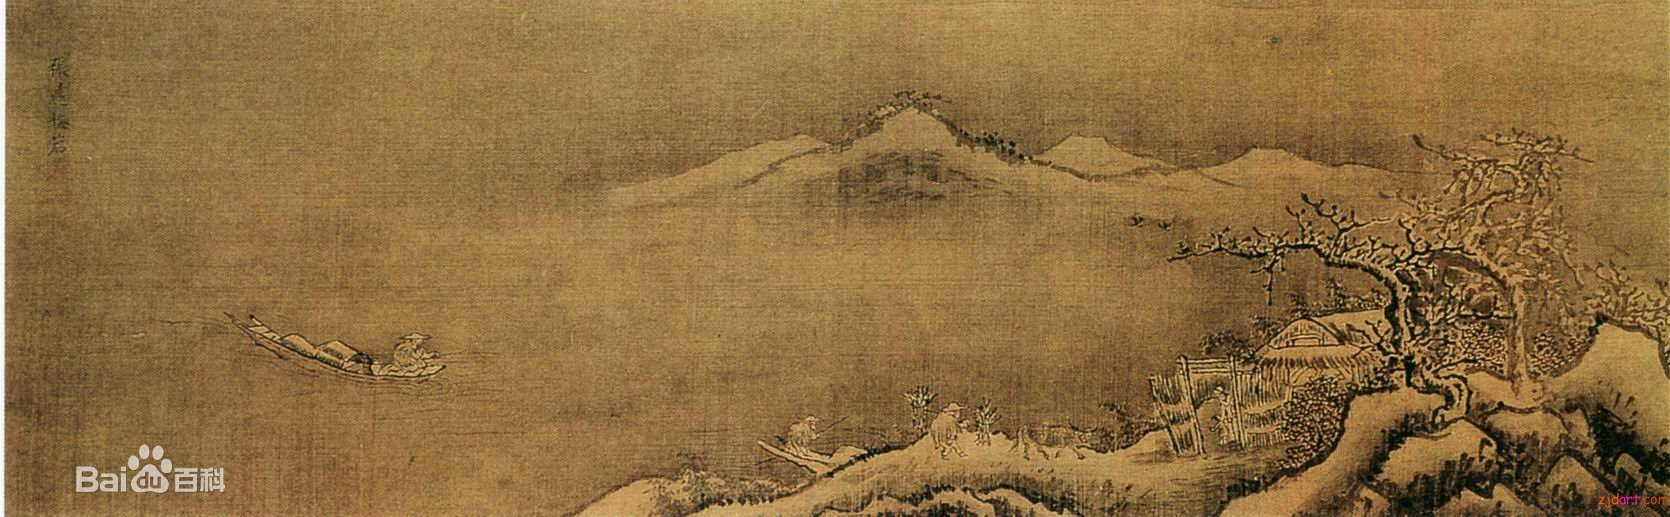boat: (229, 310, 468, 381), (762, 433, 870, 480)
cow: (1014, 420, 1097, 467)
hill: (1284, 323, 1659, 463)
house: (1150, 303, 1425, 452)
man: (903, 381, 1004, 457), (1211, 387, 1252, 453), (392, 334, 444, 381), (786, 412, 827, 467)
range: (610, 89, 1447, 260)
river: (47, 263, 1103, 426)
tree: (1239, 133, 1557, 427)
